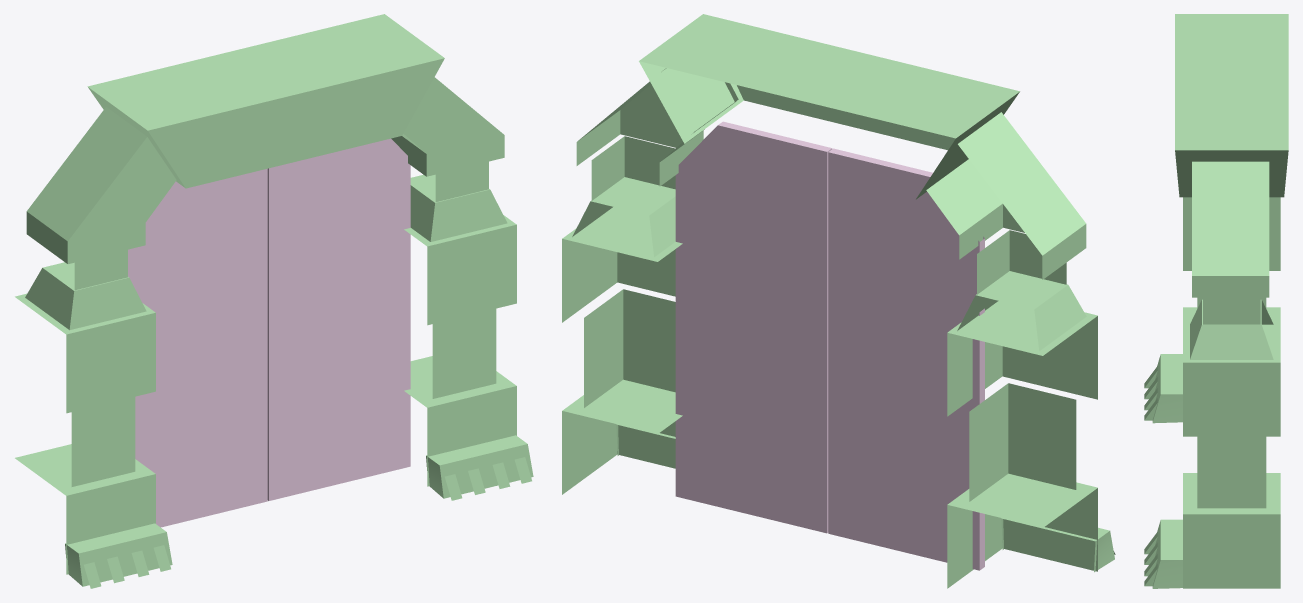
3 views of the same model, side by side, from view 1: azimuth 30°, elevation 25°; view 2: azimuth 150°, elevation 25°; view 3: azimuth 270°, elevation 25° (orthographic). The views are drawn at different scales.
Visible parts, largest first — view 1: Object33; view 2: Object33; view 3: Object33.
Boxes of the visible parts, x1,y1,x2,y2 form: Object33: (15,14,533,588); Object33: (562,14,1115,588); Object33: (1144,14,1288,588).
Bounding box in the file's own units: 759 × 689 × 223.
